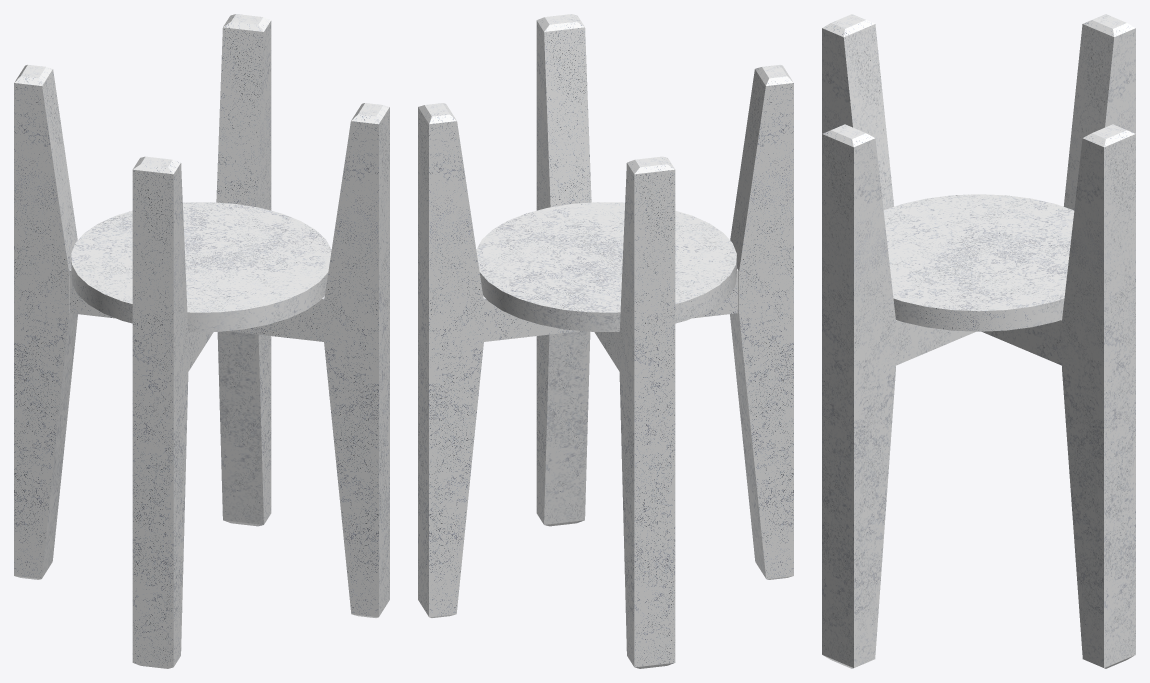
File: PotStand_B2.fbx
The picture shows the model from 3 angles, left to right: view 1: azimuth 30°, elevation 25°; view 2: azimuth 150°, elevation 25°; view 3: azimuth 270°, elevation 25°; orthographic projection. The views are drawn at different scales.
Parts seen in each view (by area): view 1: PotStand_B3, PotStand_B4; view 2: PotStand_B3, PotStand_B4; view 3: PotStand_B3, PotStand_B4.
Boxes of the visible parts, box(x1,y1,x2,y2) form: PotStand_B3: box(14, 14, 389, 668); PotStand_B4: box(71, 202, 331, 332); PotStand_B3: box(418, 14, 793, 668); PotStand_B4: box(476, 202, 736, 331); PotStand_B3: box(822, 14, 1135, 668); PotStand_B4: box(883, 194, 1074, 331).
Bounding box in the file's own units: 0.1385 × 0.258 × 0.1385.
